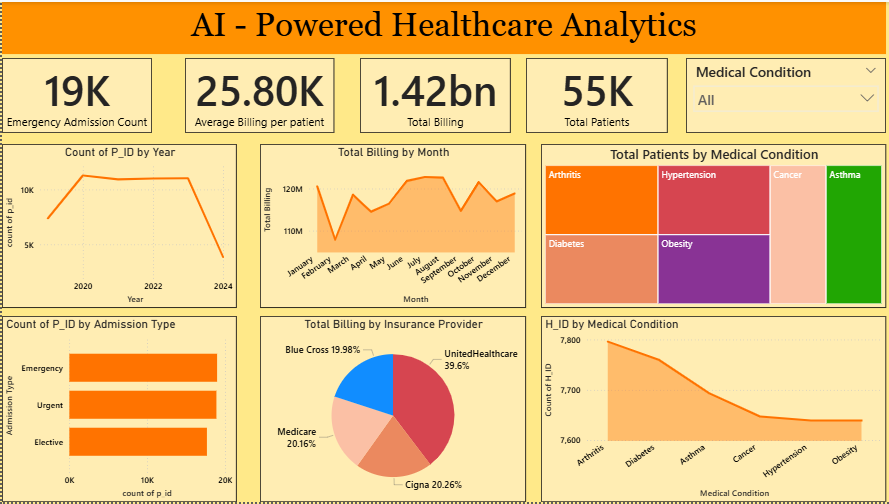

The page's visual inventory and layout, read from the dashboard file:
{"tool":"powerbi","page":{"name":"Page 1","canvas":[1280,720],"ordinal":0},"visuals":[{"type":"card","fields":{"Values":["Sheet1.Total Patients"]},"box":[754.6,80.6,204.5,108],"z":0},{"type":"card","fields":{"Values":["Sheet1.Total Billing"]},"box":[515.5,80.6,217.4,108],"z":1000},{"type":"card","fields":{"Values":["Sheet1.Average Billing per patient"]},"box":[263.5,80.6,214.6,108],"z":2000},{"type":"card","fields":{"Values":["Sheet1.Emergency Admission Count"]},"box":[0,80.6,216,108],"z":3000},{"type":"lineChart","title":"Count of P_ID by Year","fields":{"Category":["Sheet1.Date of Admission.Variation.Date Hierarchy.Year","Sheet1.Date of Admission.Variation.Date Hierarchy.Quarter","Sheet1.Date of Admission.Variation.Date Hierarchy.Month","Sheet1.Date of Admission.Variation.Date Hierarchy.Day"],"Y":["Sheet1.count of p_id"]},"box":[0,204.5,338.4,236.2],"z":4000},{"type":"textbox","box":[0,0,1273,74.9],"z":5000},{"type":"areaChart","fields":{"Category":["Sheet1.Date of Admission.Variation.Date Hierarchy.Month","Sheet1.Date of Admission.Variation.Date Hierarchy.Day"],"Y":["Sheet1.Total Billing"]},"box":[371.5,204.5,383,236.2],"z":6000},{"type":"slicer","fields":{"Values":["Sheet1.Medical Condition"]},"box":[985,80.6,288,108],"z":7000},{"type":"treemap","fields":{"Group":["Sheet1.Medical Condition"],"Values":["Sheet1.Total Patients"]},"box":[776.2,204.5,496.8,236.2],"z":8000},{"type":"barChart","title":"Count of P_ID by Admission Type","fields":{"Category":["Sheet1.Admission Type"],"Y":["Sheet1.count of p_id"]},"box":[0,452.2,338.4,267.8],"z":9000},{"type":"pieChart","fields":{"Category":["Sheet1.Insurance Provider"],"Y":["Sheet1.Total Billing"]},"box":[371.5,452.2,383,267.8],"z":10000},{"type":"areaChart","title":"H_ID by Medical Condition","fields":{"Category":["Sheet1.Medical Condition"],"Y":["Count(Sheet1.H_ID)"]},"box":[776.2,452.2,496.8,267.8],"z":11000}]}

Visuals, with their boxes in screenshot pixels (x1, y1, x2, y2), scaled from the page's 1280x720 canvas onto the 889x504 screenshot:
card - Sheet1.Total Patients: box=[524, 56, 666, 132]
card - Sheet1.Total Billing: box=[358, 56, 509, 132]
card - Sheet1.Average Billing per patient: box=[183, 56, 332, 132]
card - Sheet1.Emergency Admission Count: box=[0, 56, 150, 132]
"Count of P_ID by Year" lineChart: box=[0, 143, 235, 308]
textbox: box=[0, 0, 884, 52]
areaChart - Sheet1.Date of Admission.Variation.Date Hierarchy.Month x Sheet1.Date of Admission.Variation.Date Hierarchy.Day: box=[258, 143, 524, 308]
slicer - Sheet1.Medical Condition: box=[684, 56, 884, 132]
treemap - Sheet1.Medical Condition x Sheet1.Total Patients: box=[539, 143, 884, 308]
"Count of P_ID by Admission Type" barChart: box=[0, 317, 235, 503]
pieChart - Sheet1.Insurance Provider x Sheet1.Total Billing: box=[258, 317, 524, 503]
"H_ID by Medical Condition" areaChart: box=[539, 317, 884, 503]
